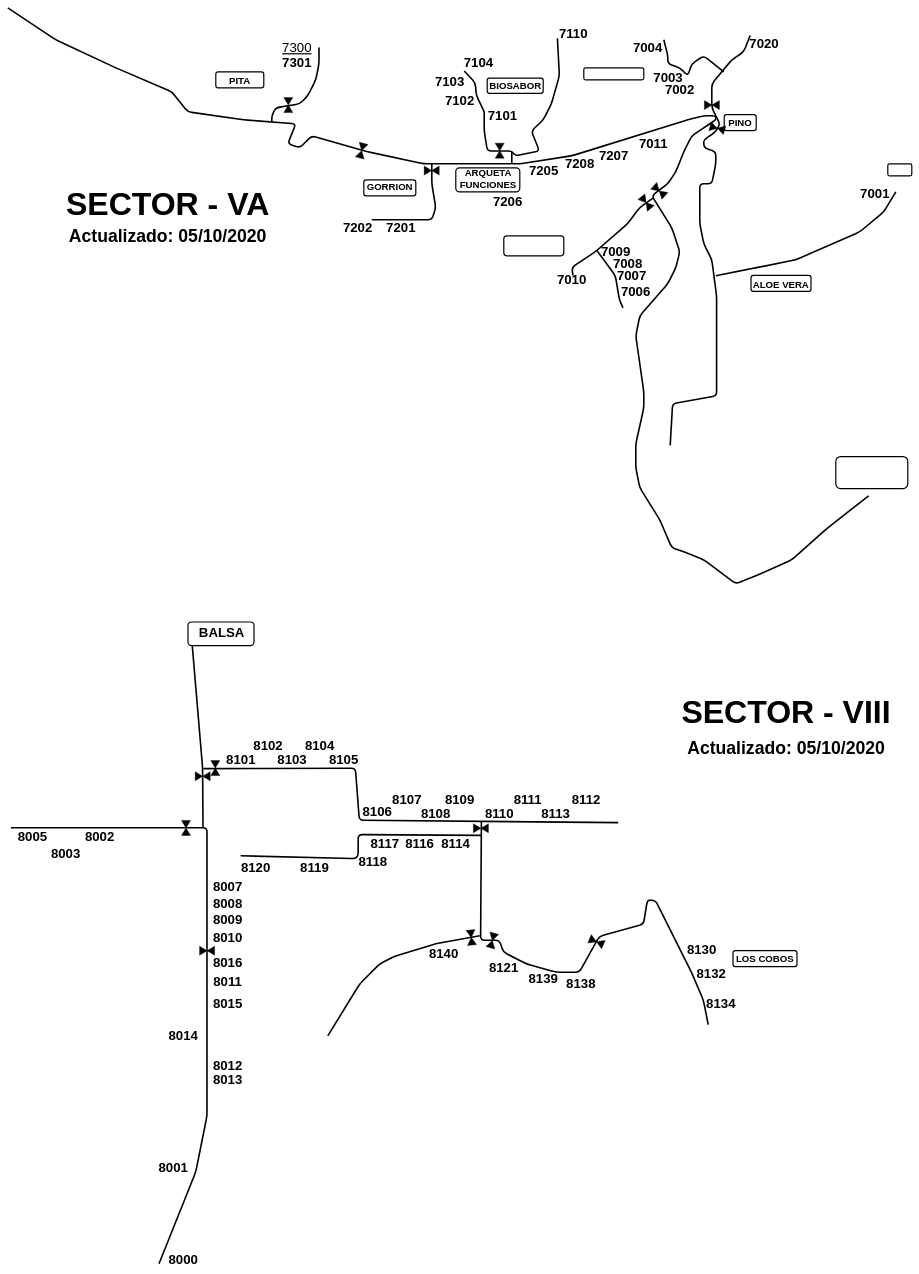
The diagram is 919 pixels wide and 1274 high, and some of its shapes have lost their labels. The shapes that lost their labels are listed below. From the top down, each one's box as (x1, y1, x2, y2) in pixels, then its label:
(583, 67, 644, 80): MONSANTO
(887, 163, 912, 176): UAL
(503, 235, 564, 256): ACEBUCHE
(835, 456, 908, 489): BALSA TRANCOS
